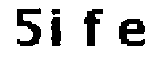5: (10, 3, 43, 48)
e: (116, 16, 149, 52)
f: (77, 5, 108, 53)
i: (48, 6, 66, 50)
